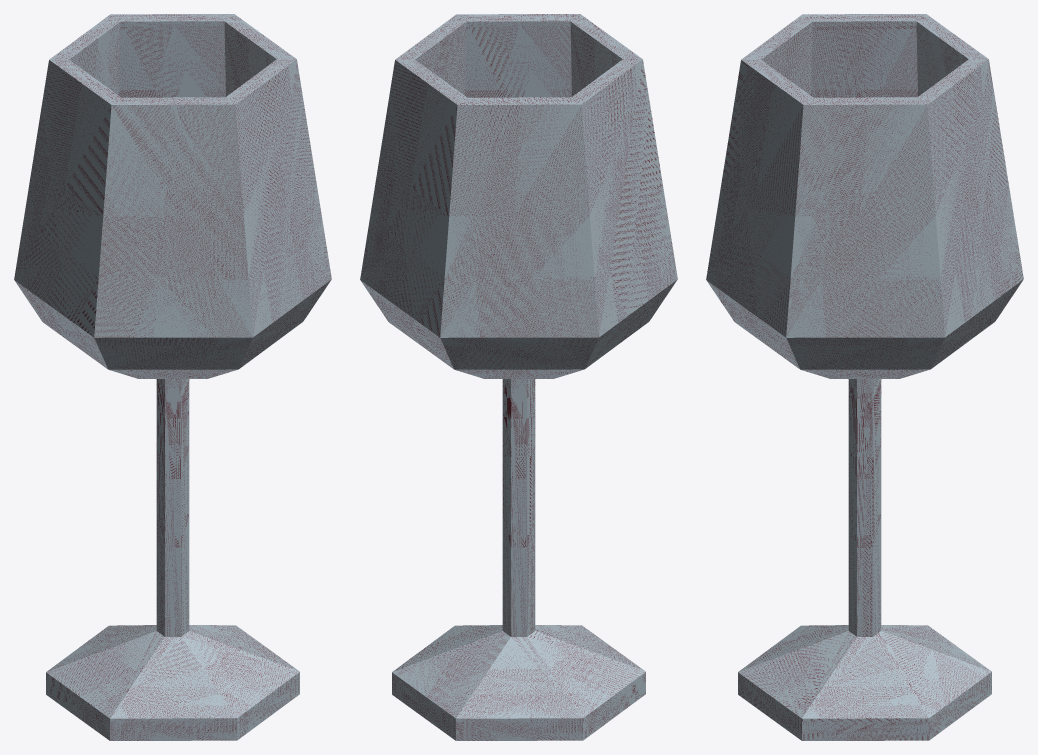
File: wine-glass.dae
3 views of the same model, side by side, from view 1: azimuth 30°, elevation 25°; view 2: azimuth 150°, elevation 25°; view 3: azimuth 270°, elevation 25° (orthographic).
Visible parts, largest first — view 1: wine-glass; view 2: wine-glass; view 3: wine-glass.
Boxes of the visible parts, x1,y1,x2,y2 form: wine-glass: [14, 14, 331, 740]; wine-glass: [360, 14, 677, 740]; wine-glass: [706, 14, 1023, 740].
Bounding box in the file's own units: 0.0788 × 0.0907 × 0.2.
